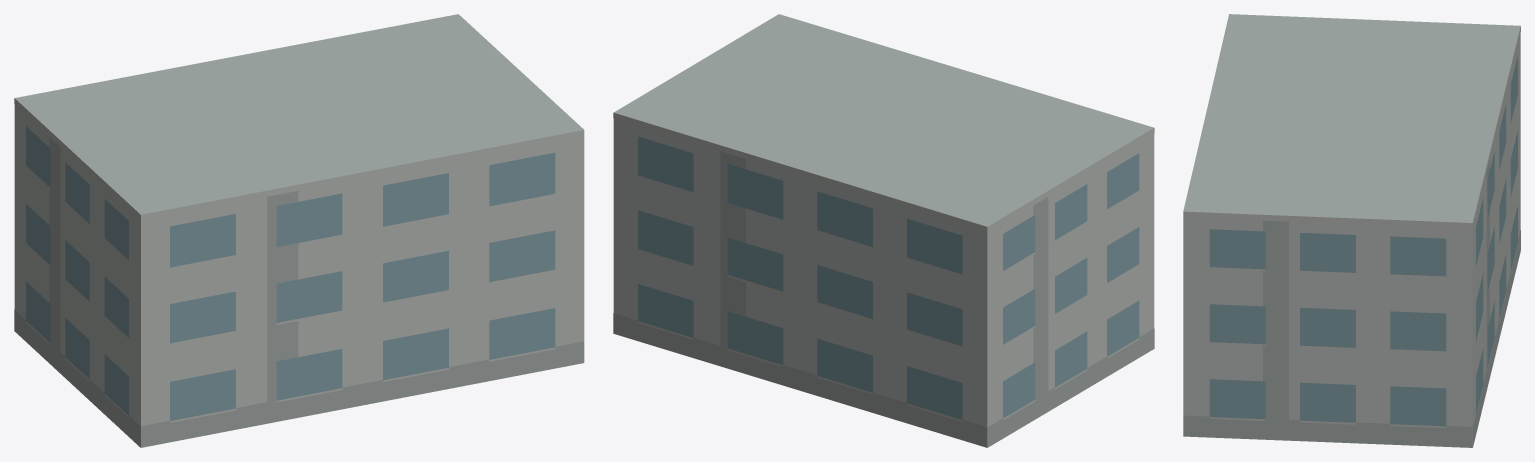
File: survey-upis-32567962.glb
3 renders of one model, left to right at view 1: azimuth 30°, elevation 25°; view 2: azimuth 150°, elevation 25°; view 3: azimuth 270°, elevation 25°, orthographic. The views are drawn at different scales.
Visible parts, largest first — view 1: survey-upis-32567962.tmp; view 2: survey-upis-32567962.tmp; view 3: survey-upis-32567962.tmp.
Part boxes in pixels (left/top/right/bottom): survey-upis-32567962.tmp: left=14, top=14, right=584, bottom=447; survey-upis-32567962.tmp: left=613, top=14, right=1154, bottom=447; survey-upis-32567962.tmp: left=1183, top=14, right=1520, bottom=447.
Bounding box in the file's own units: 18.25 × 9.15 × 12.46.
